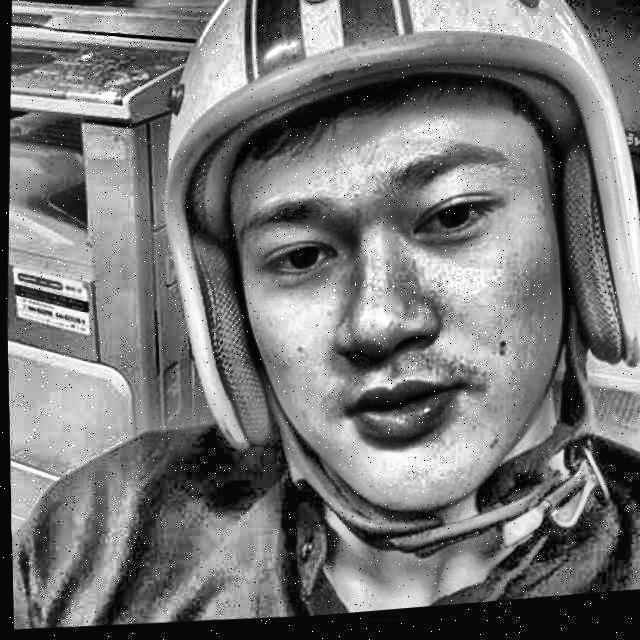Helmet: (136, 0, 640, 591)
